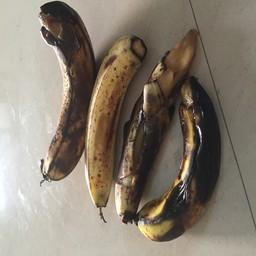Bad_banana: (28, 1, 233, 256)
